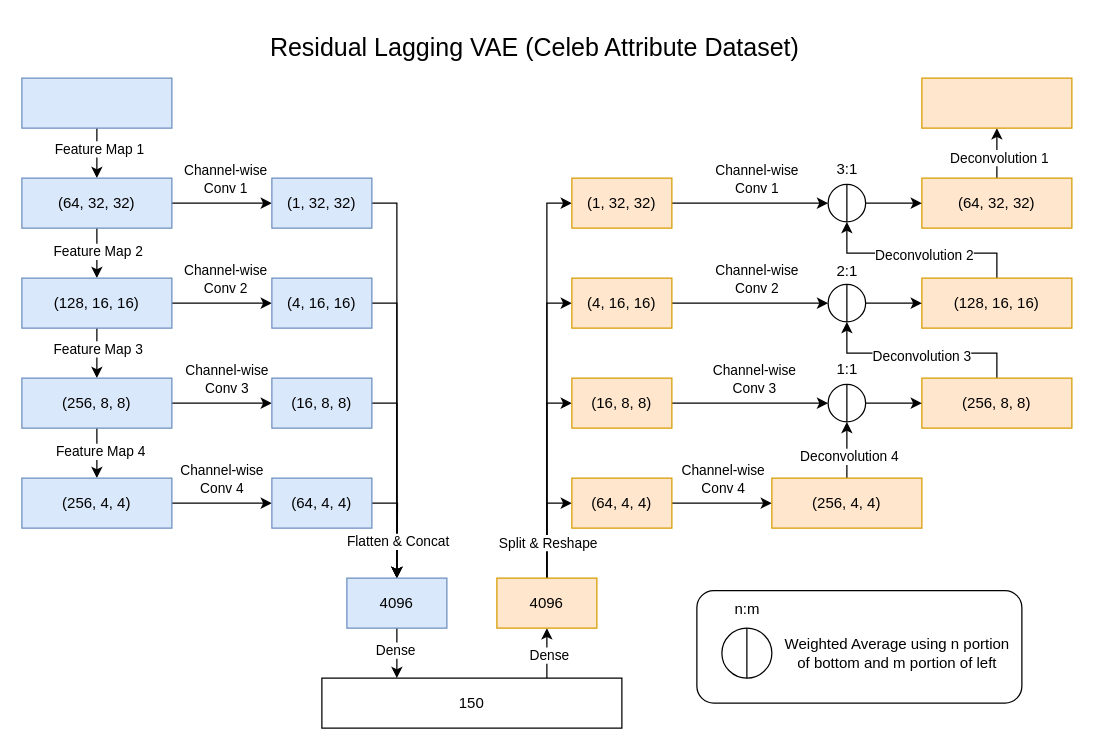
This 1094x750 diagram has some shape labels left out. The shapes that lost their labels are listed below. From the top down, each one's centre as x and y in pixels, then its label:
(96,102): Input (3, 64, 64)
(996,102): Output (3, 64, 64)
